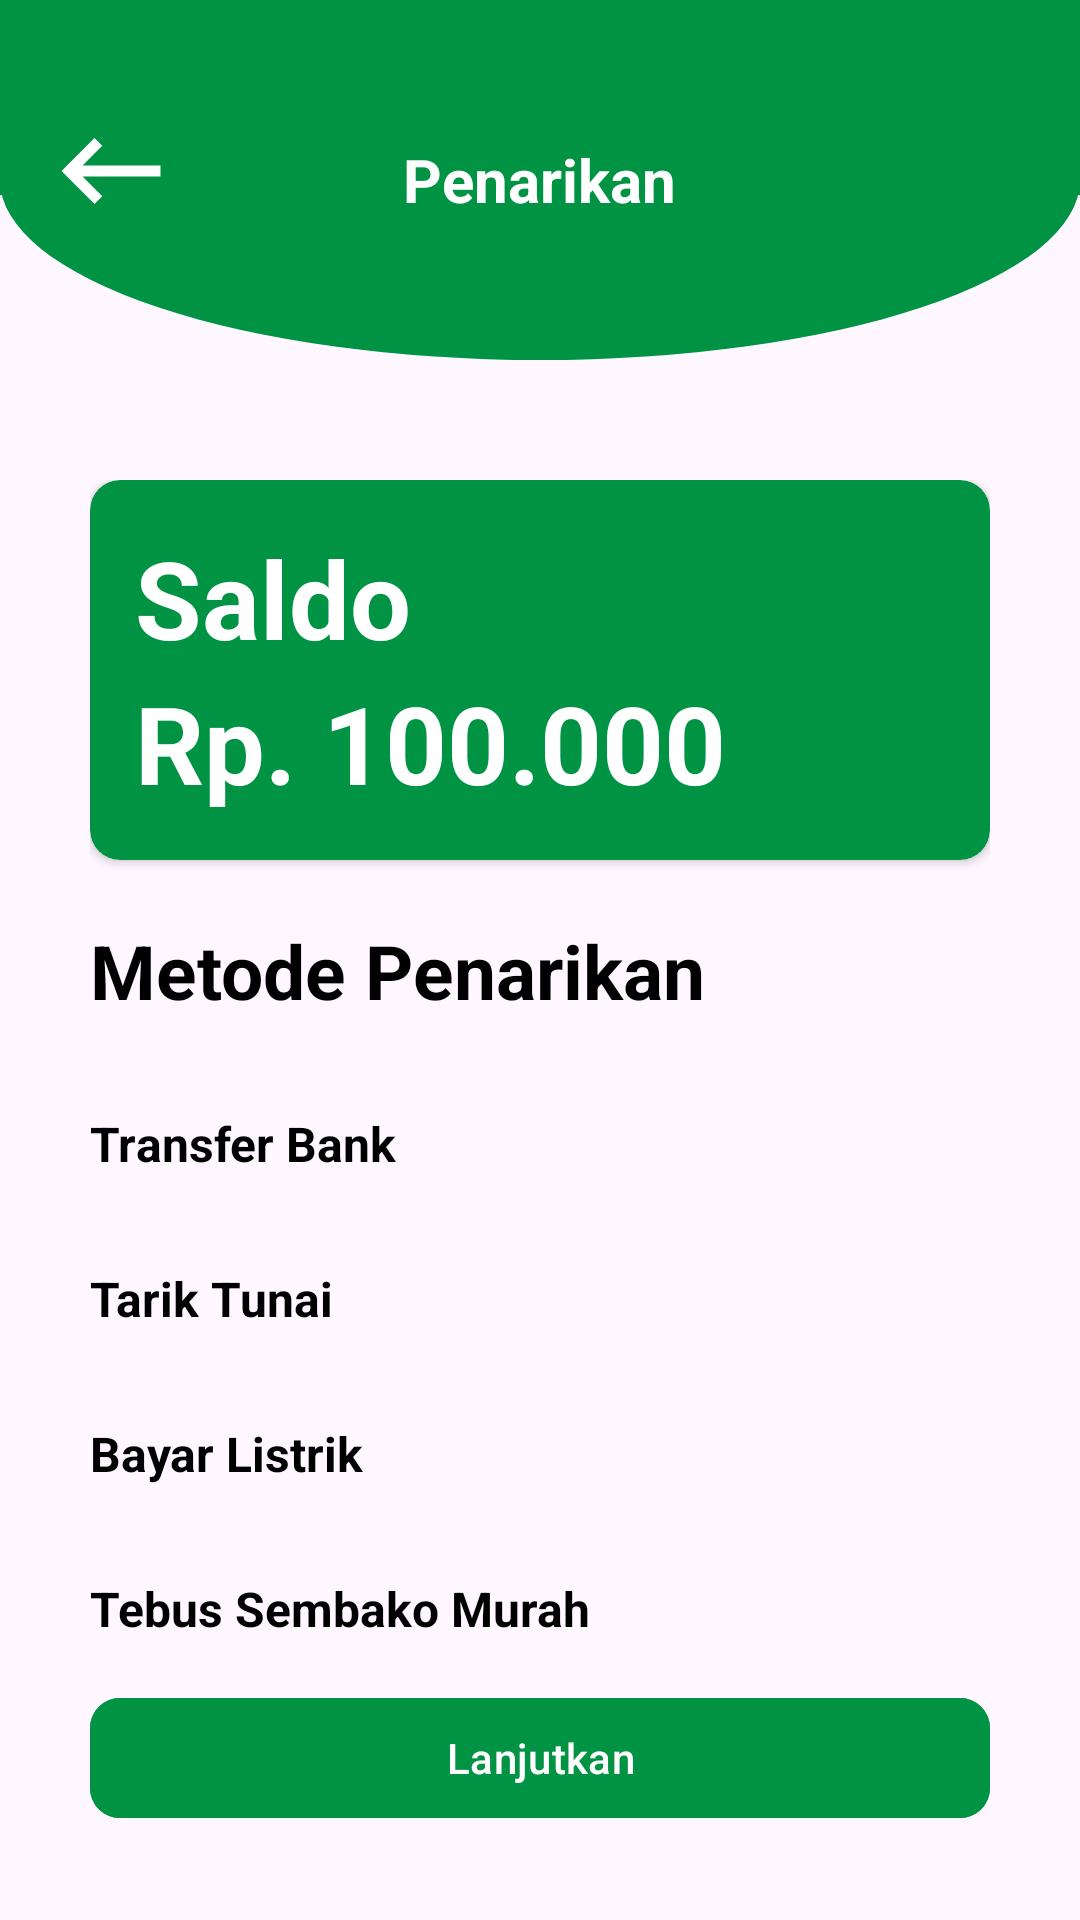

Screen size 1080*1920. Icon name, then its box in pixels as (left=x1, top=y1, right=x2, bottom=y2):
keyboard backspace: (left=61, top=138, right=161, bottom=204)
